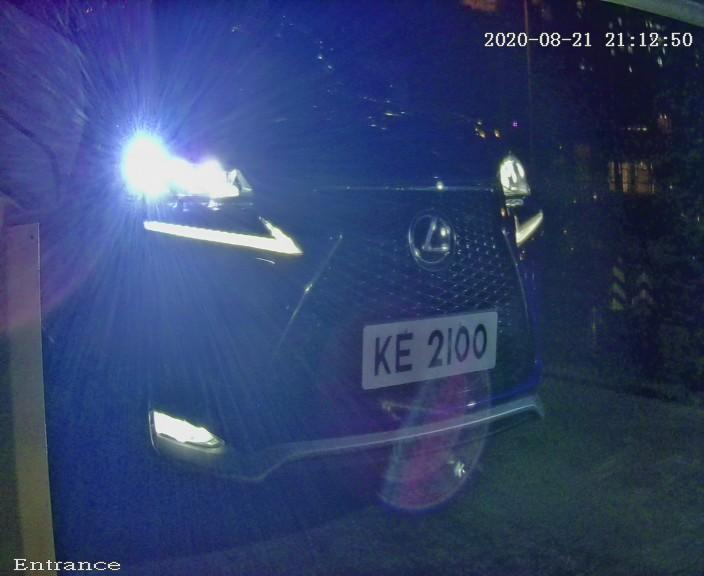Car: (4, 31, 626, 530)
License Plate: (332, 298, 523, 399)
